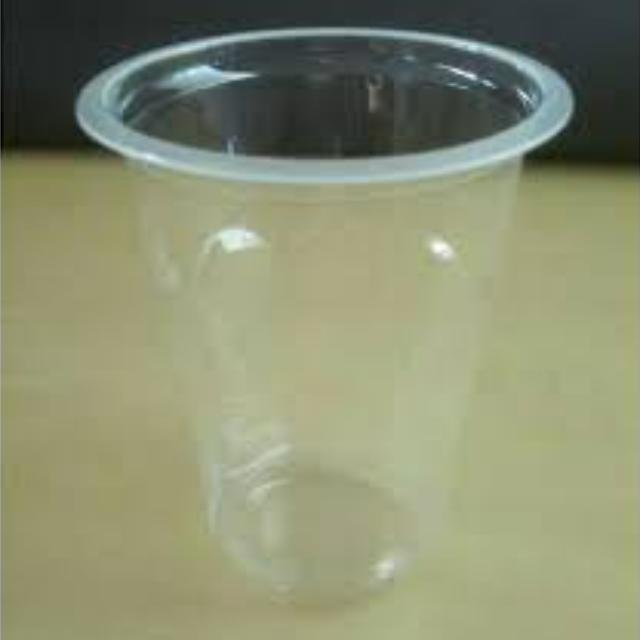GelasPlastik: (72, 24, 575, 608)
